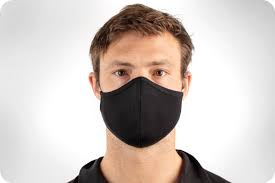cloth_mask: (98, 76, 185, 149)
